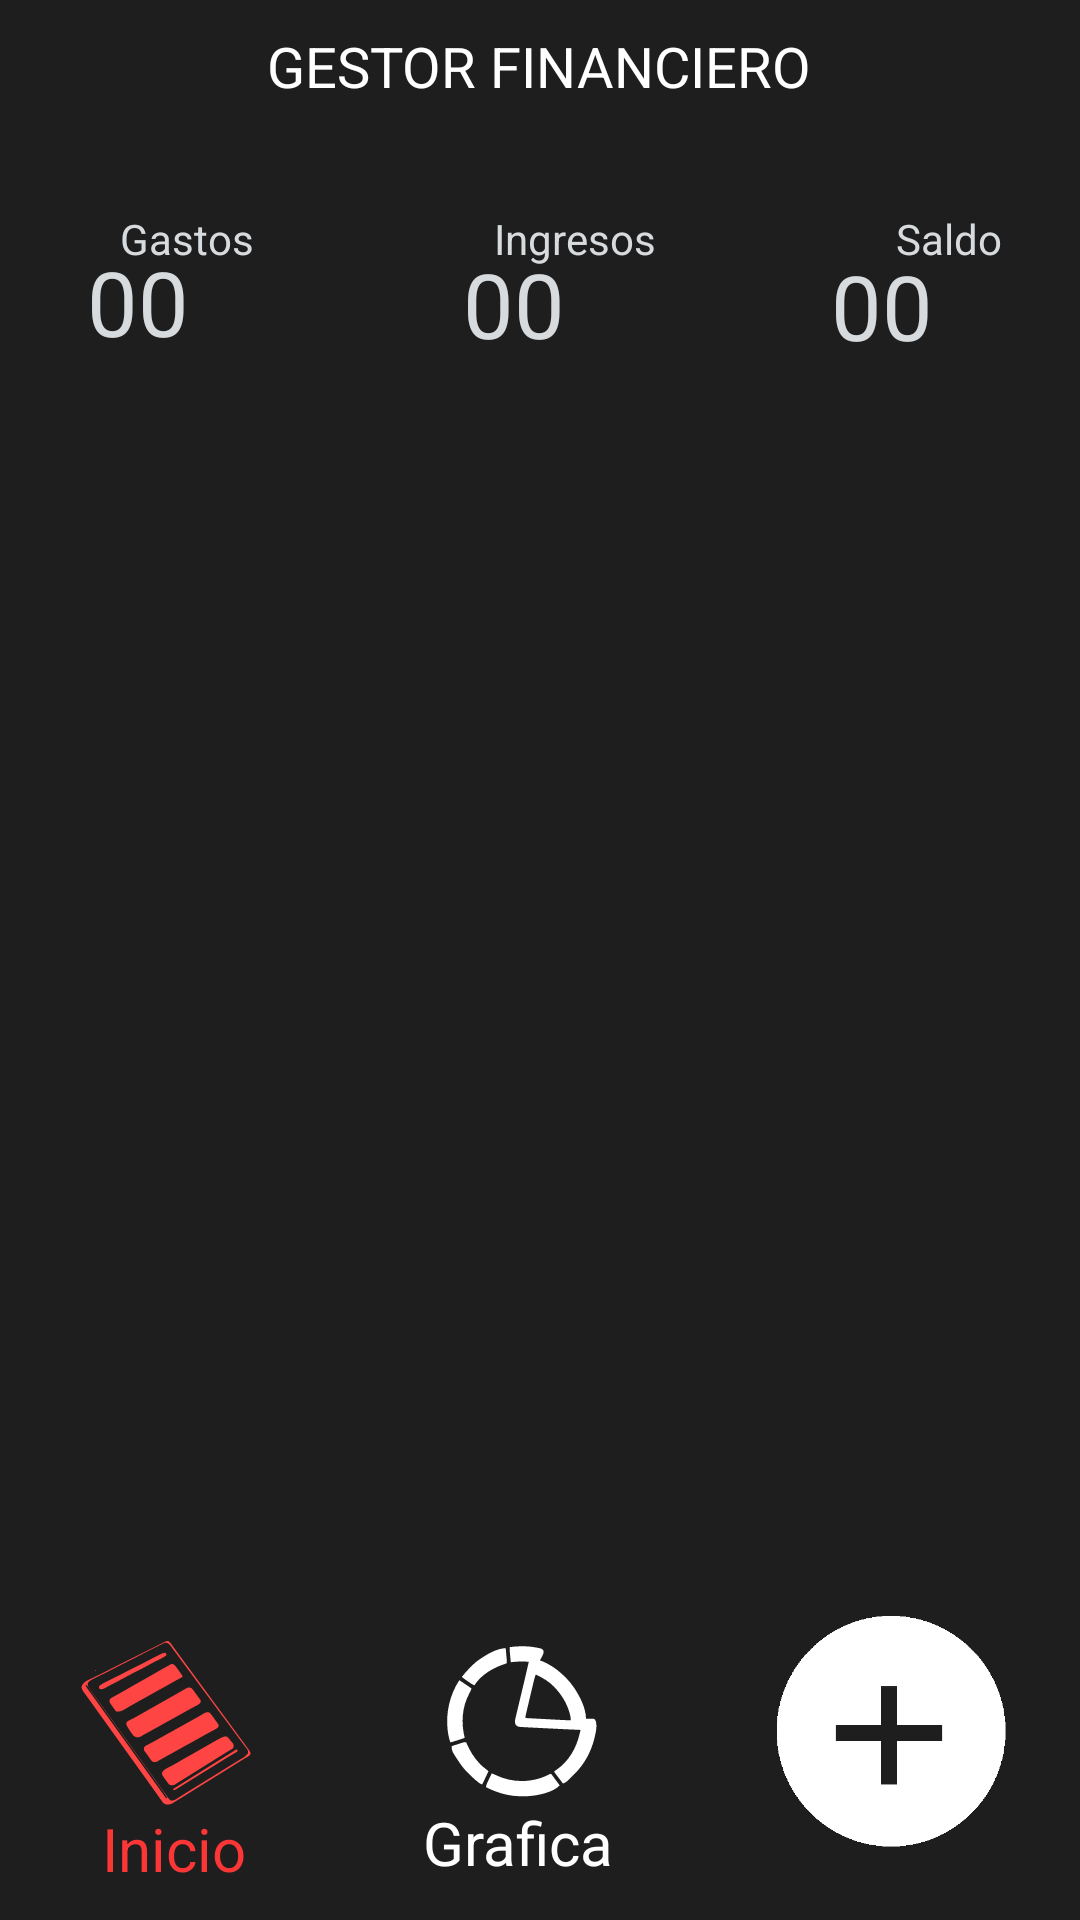

Named icons in this screenshot (1080x1920) and their bounding boxes, Rect(x1, y1, x2, y2):
add circle: Rect(777, 1616, 1006, 1847)
